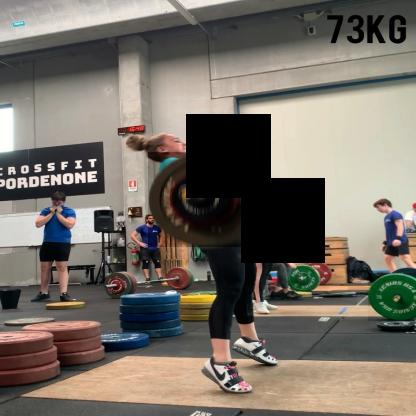barbell: (149, 153, 270, 248), (369, 274, 416, 322)
